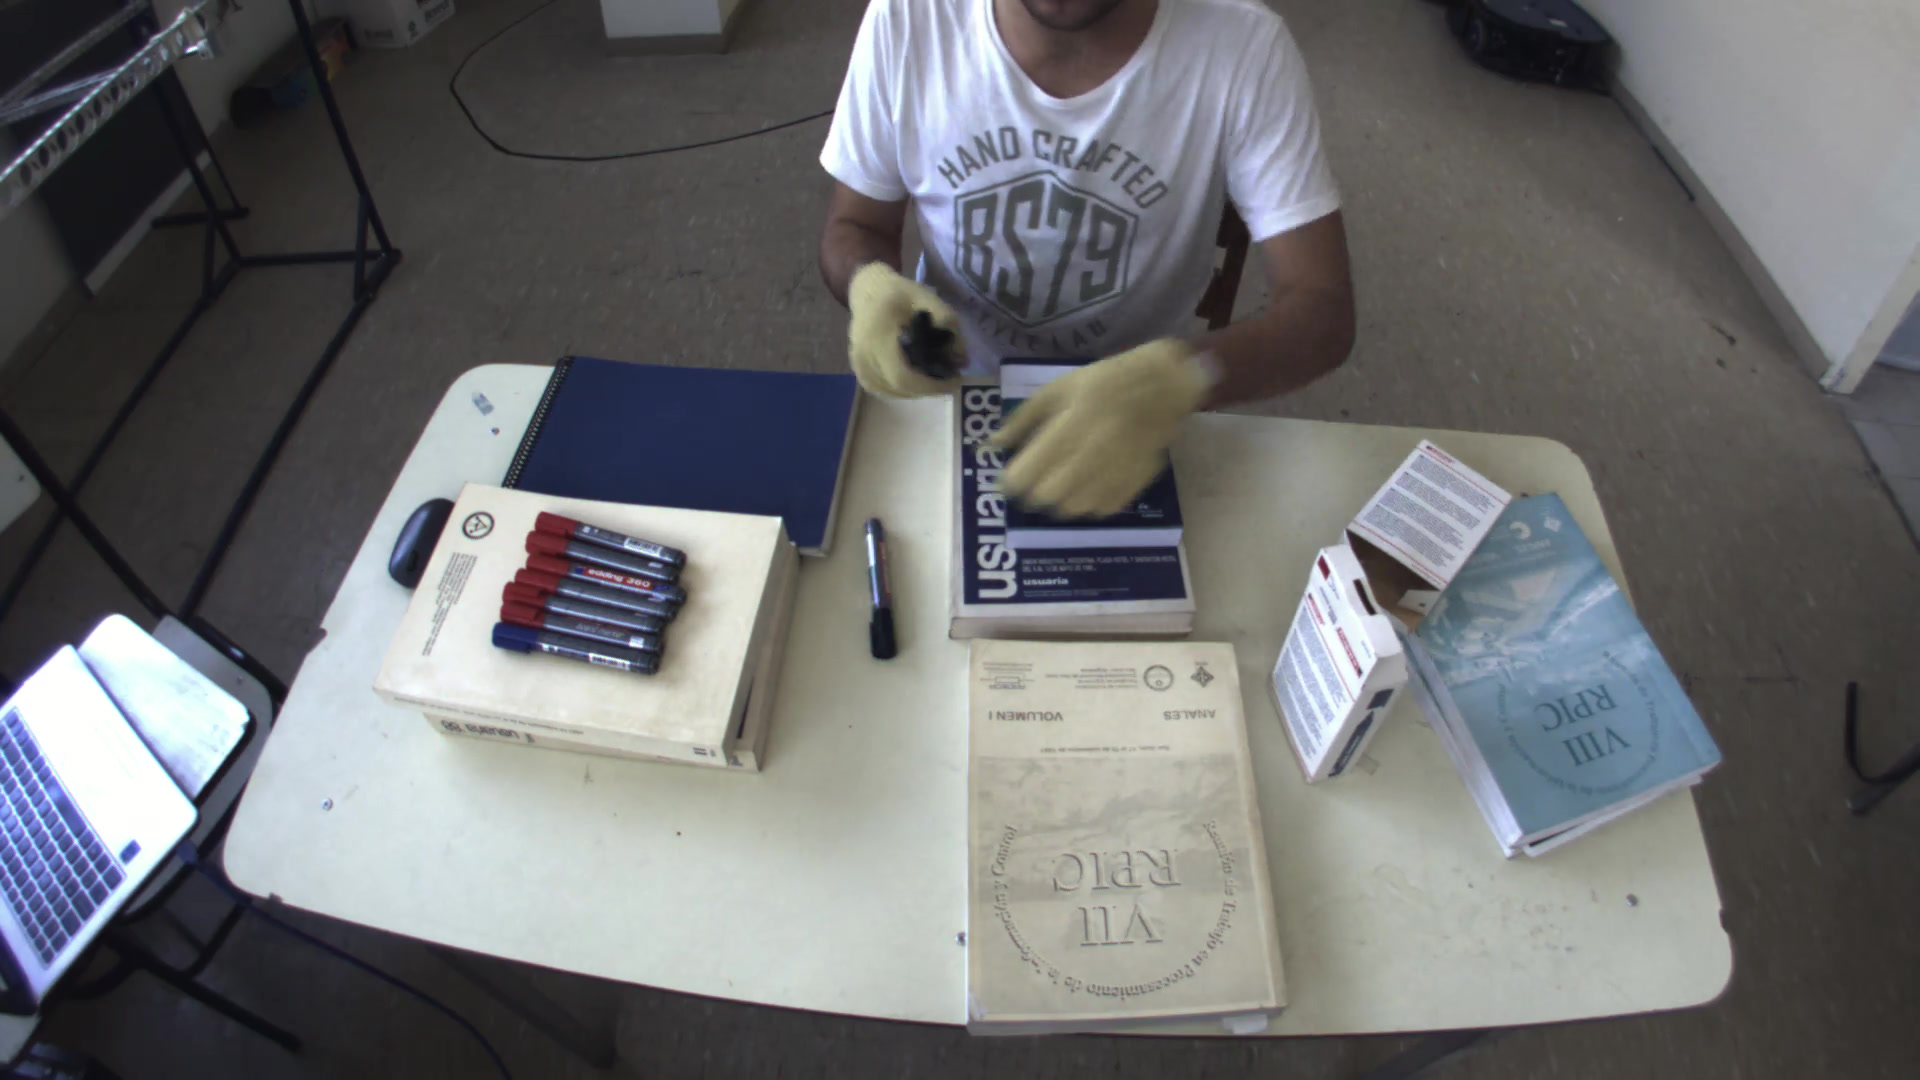hand: (976, 324, 1232, 531), (825, 255, 980, 404)
